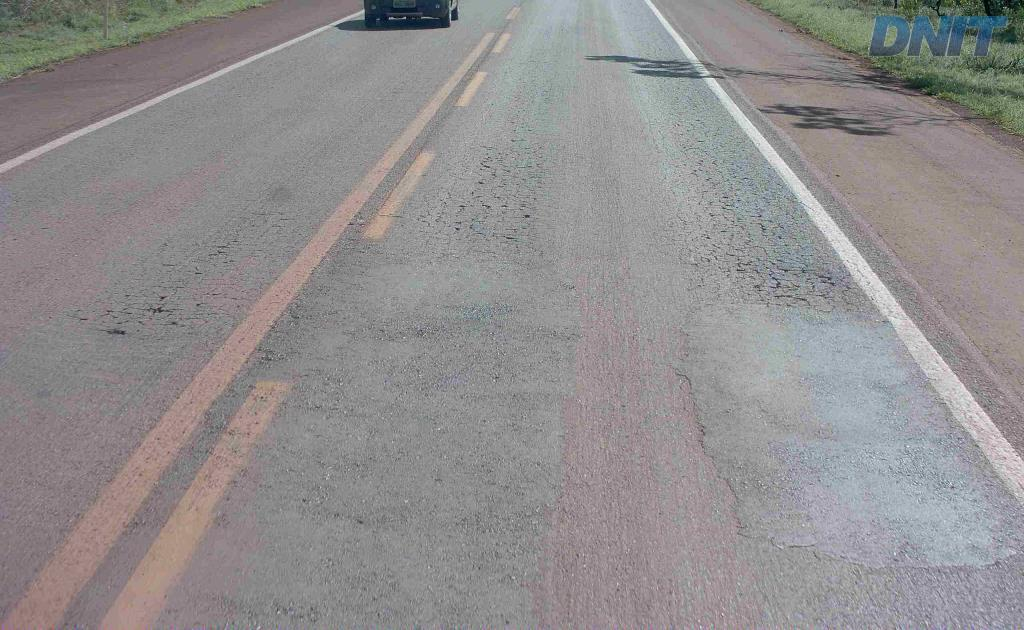crack: (773, 254, 855, 308)
